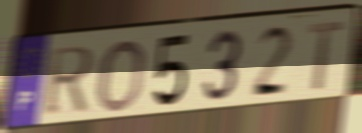2: (246, 24, 297, 100)
3: (201, 27, 243, 105)
5: (152, 31, 191, 109)
O: (94, 37, 148, 115)
R: (42, 44, 97, 120)
T: (307, 18, 346, 94)
